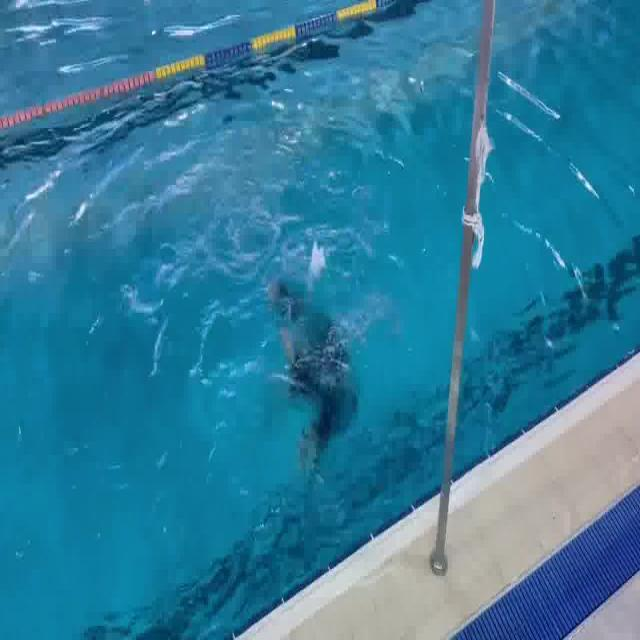Drowning: (262, 277, 382, 455)
